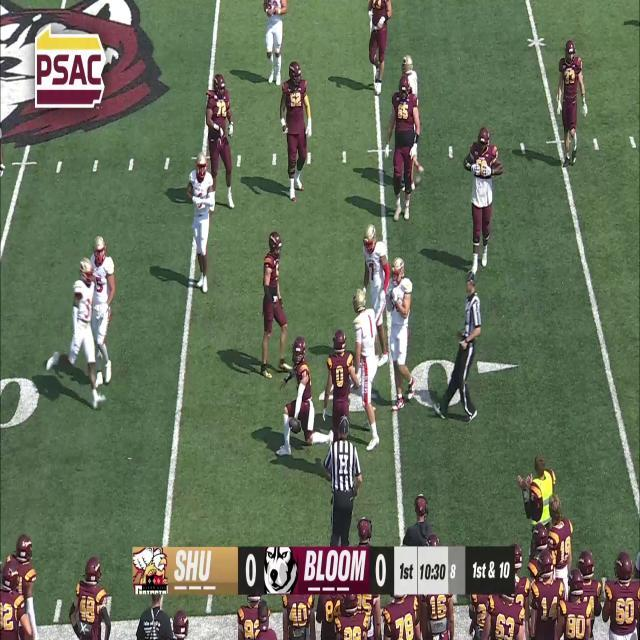football: (288, 417, 302, 435)
